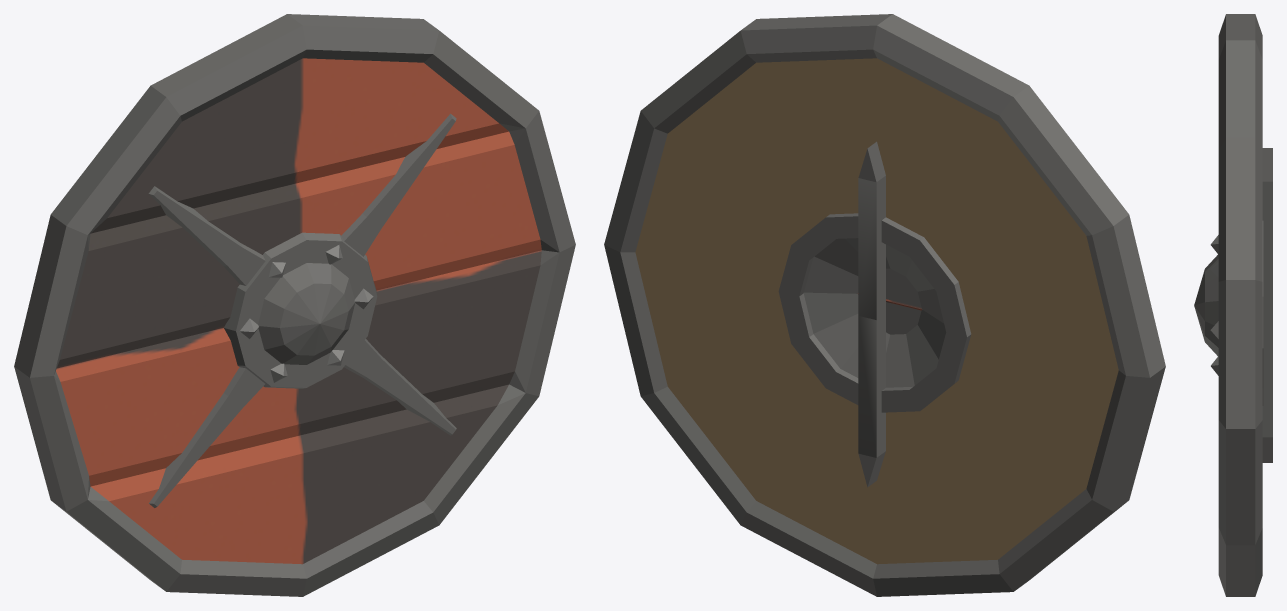
The model's file is SM_pwe_slavic_shield_03n.fbx.
3 renders of one model, left to right at view 1: azimuth 30°, elevation 25°; view 2: azimuth 150°, elevation 25°; view 3: azimuth 270°, elevation 25°, orthographic. The views are drawn at different scales.
Parts seen in each view (by area): view 1: SM_pwe_slavic_shield_03n; view 2: SM_pwe_slavic_shield_03n; view 3: SM_pwe_slavic_shield_03n.
Boxes of the visible parts, bbox=[...] form: SM_pwe_slavic_shield_03n: bbox=[14, 14, 575, 596]; SM_pwe_slavic_shield_03n: bbox=[604, 14, 1165, 596]; SM_pwe_slavic_shield_03n: bbox=[1194, 14, 1272, 596].
Size of the model in its own units: 70.52 by 70.52 by 9.5.
